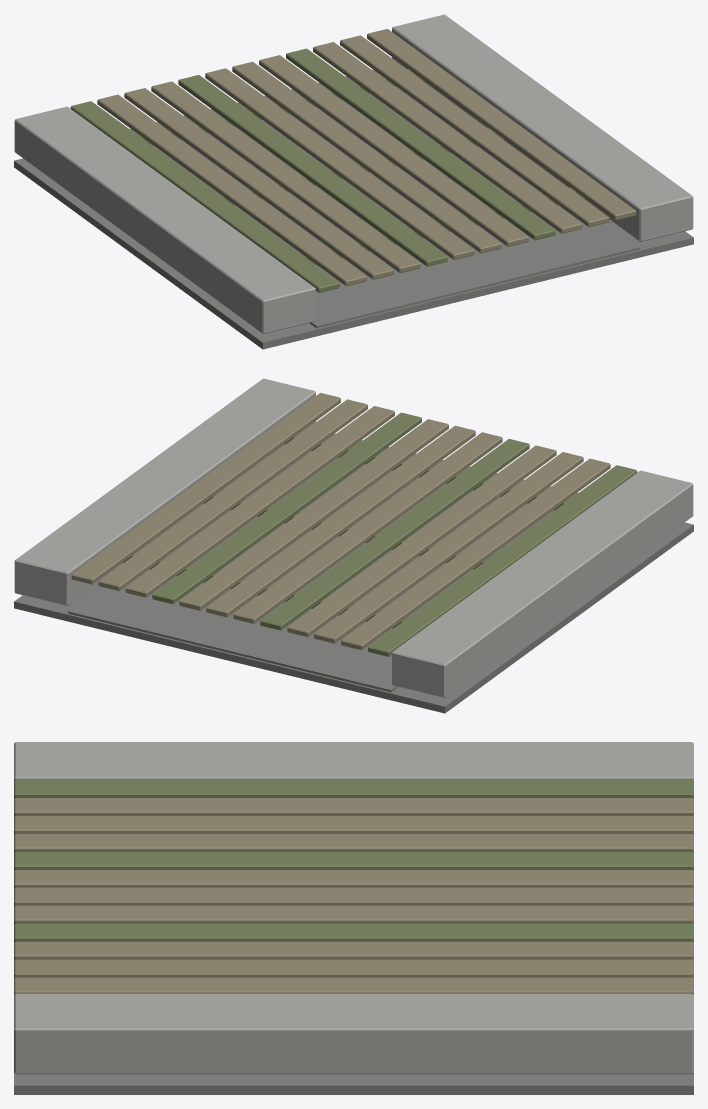
The model's file is floor_bk_duck.glb.
3 renders of one model, top to bottom at view 1: azimuth 30°, elevation 25°; view 2: azimuth 150°, elevation 25°; view 3: azimuth 270°, elevation 25°, orthographic. The views are drawn at different scales.
Parts seen in each view (by area): view 1: floor_bk_duck; view 2: floor_bk_duck; view 3: floor_bk_duck.
Part boxes in pixels (x1,y1,x2,y2): floor_bk_duck: (14, 14, 693, 349); floor_bk_duck: (14, 378, 693, 713); floor_bk_duck: (14, 742, 693, 1094).
Bounding box in the file's own units: 4 × 0.43 × 4.
